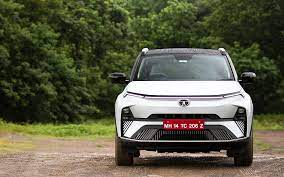Tata Nexon: (104, 44, 260, 171)
